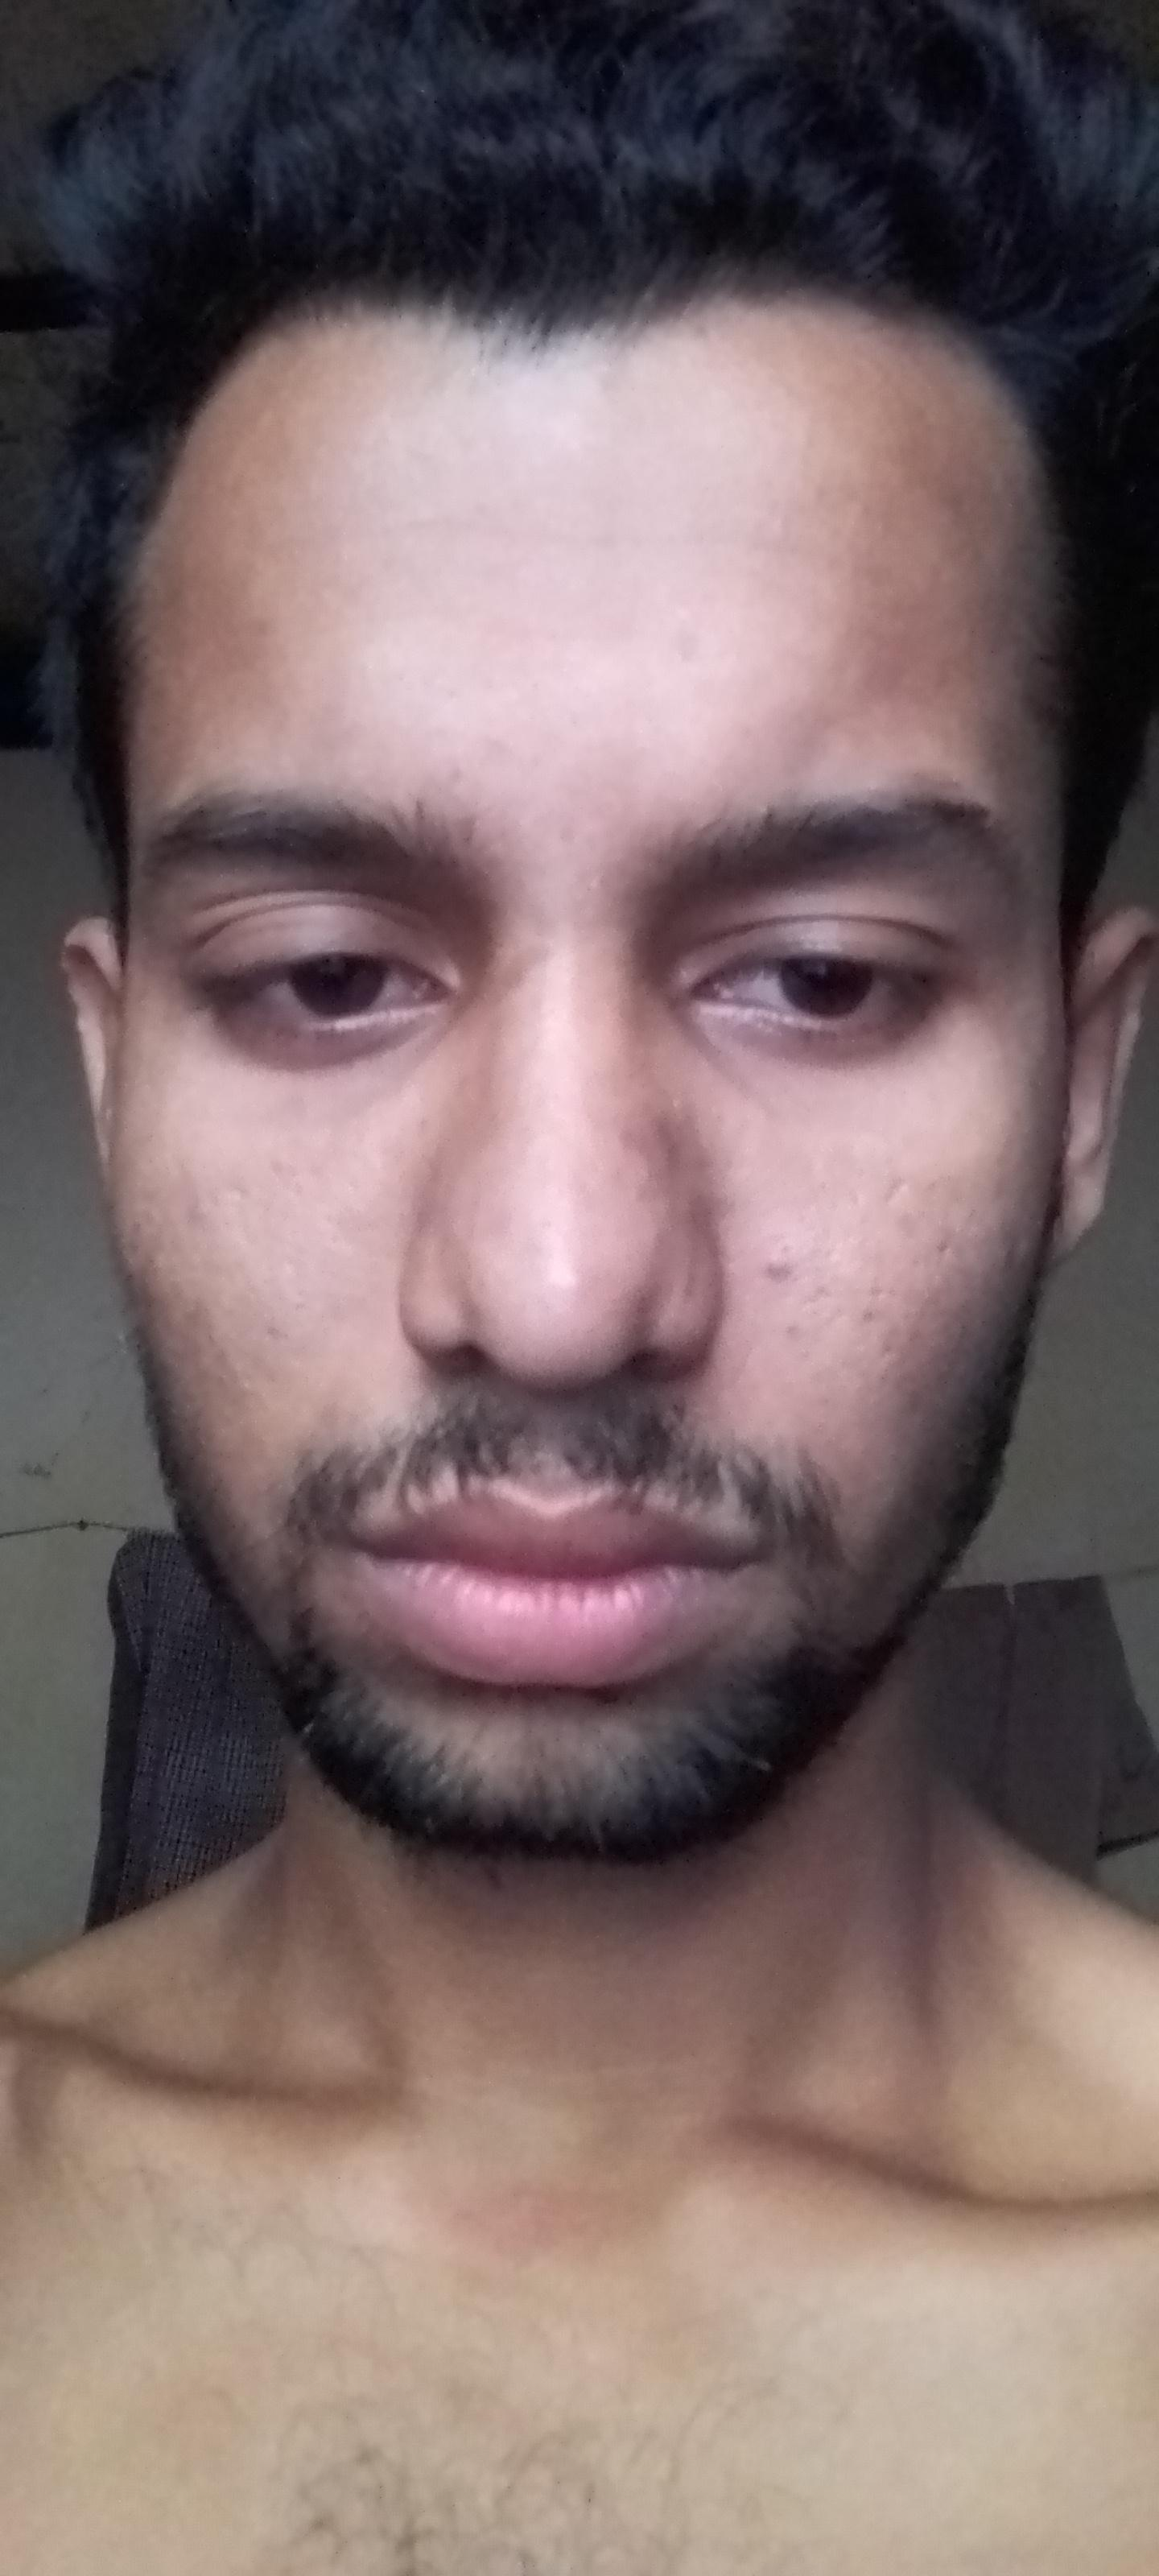Acne: (762, 1258, 804, 1298), (254, 1324, 310, 1352)
Englarged-Pores: (818, 1166, 987, 1368), (228, 1150, 401, 1268)
